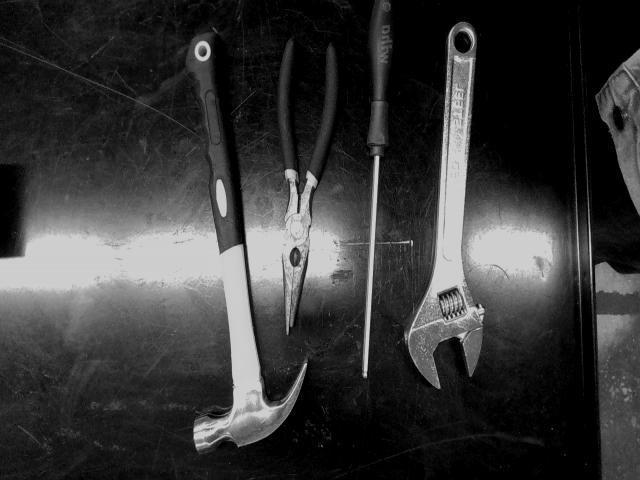Adjustable spanner: (405, 22, 485, 388)
Hammer: (186, 32, 308, 452)
Needle-nose pliers: (278, 38, 340, 334)
Screwdriver: (362, 0, 398, 378)
